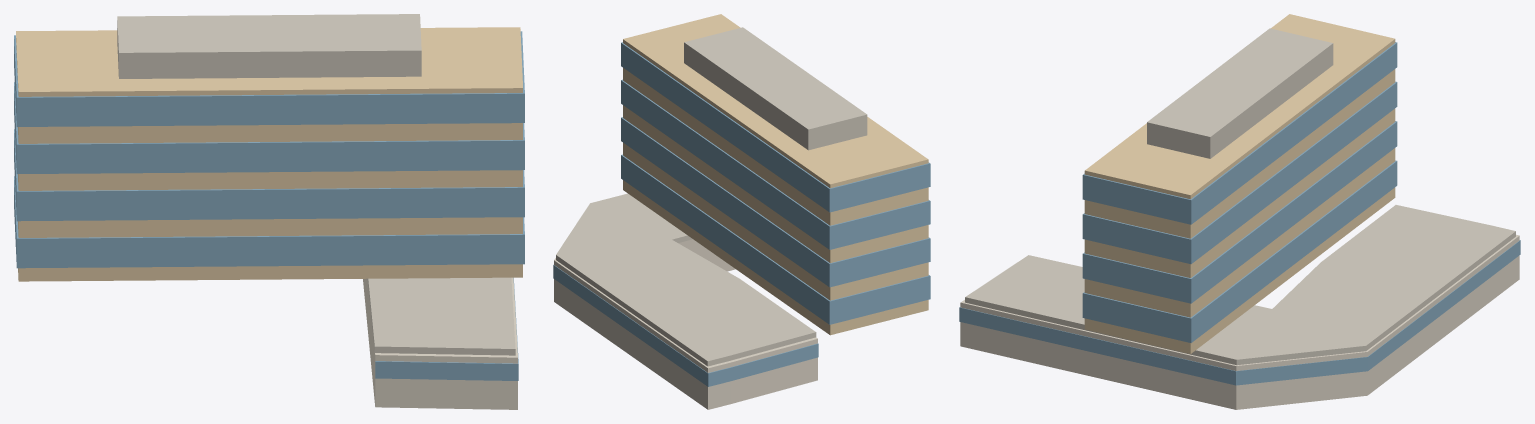
File: chatrium.glb
3 renders of one model, left to right at view 1: azimuth 30°, elevation 25°; view 2: azimuth 150°, elevation 25°; view 3: azimuth 270°, elevation 25°, orthographic. The views are drawn at different scales.
Parts seen in each view (by area): view 1: part; view 2: part; view 3: part.
Part boxes in pixels (x1,y1,x2,y2): part: (14,14,524,409); part: (553,14,930,409); part: (959,14,1520,409).
Bounding box in the file's own units: 73.9 × 42 × 92.87.
